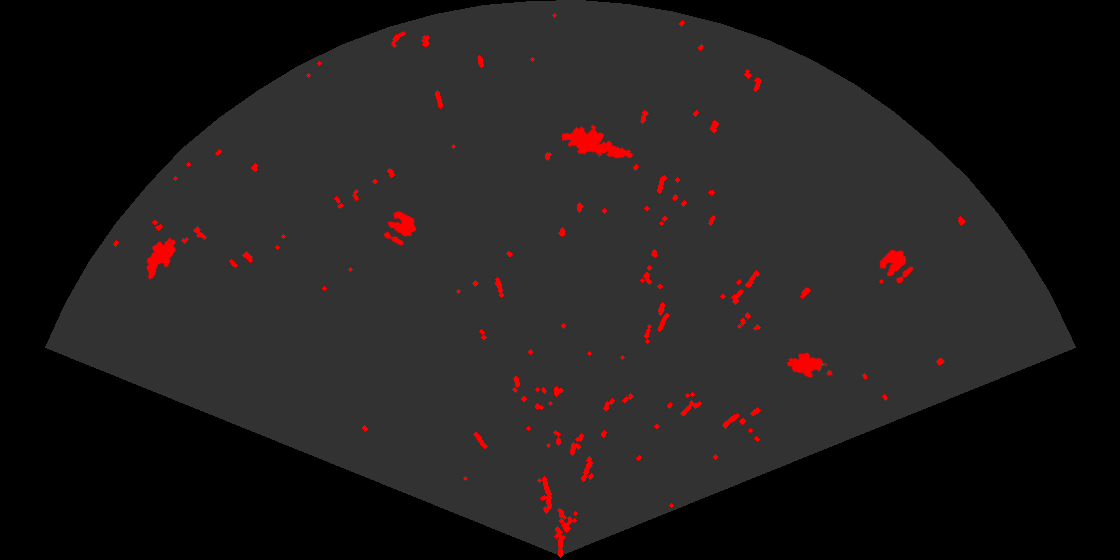AUV: (145, 236, 177, 281), (785, 351, 834, 379)
ball: (878, 248, 915, 285), (382, 210, 418, 247)
frogman: (562, 123, 634, 160)
